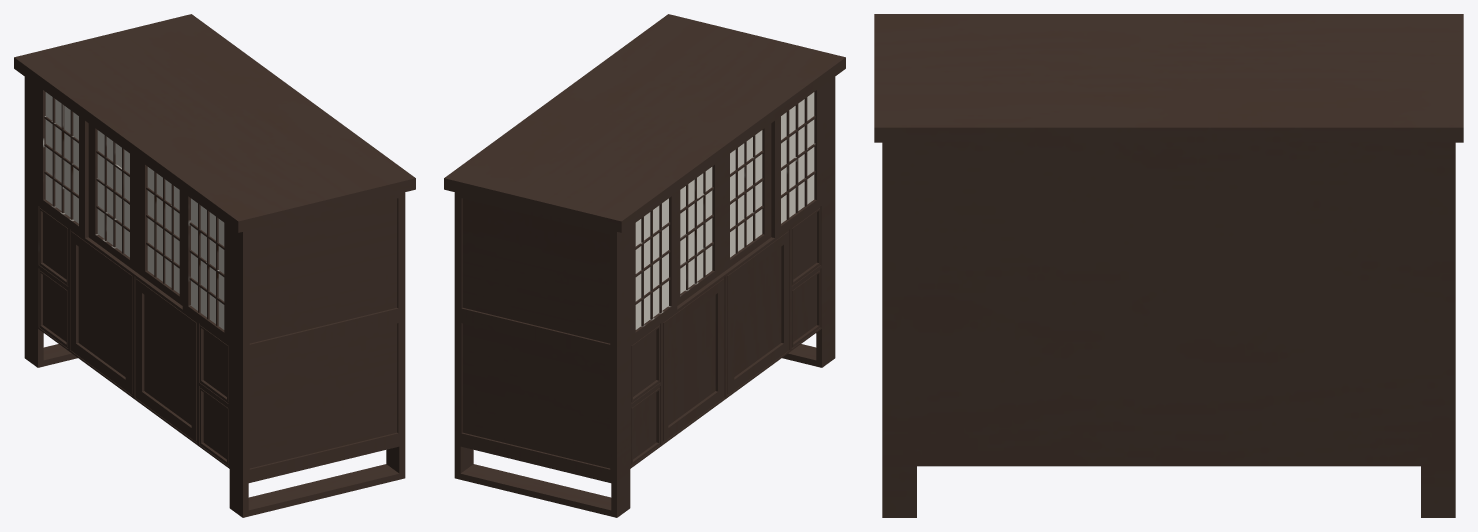
File: Ritual_cabinet.fbx
The picture shows the model from 3 angles, left to right: view 1: azimuth 30°, elevation 25°; view 2: azimuth 150°, elevation 25°; view 3: azimuth 270°, elevation 25°; orthographic projection. The views are drawn at different scales.
Visible parts, largest first — view 1: Ritual cabinet; view 2: Ritual cabinet; view 3: Ritual cabinet.
Part boxes in pixels (box(x1,y1,x2,y2)): Ritual cabinet: box(14, 14, 415, 517); Ritual cabinet: box(444, 14, 845, 517); Ritual cabinet: box(874, 14, 1463, 517).
Size of the model in its own units: 54.64 by 88.42 by 120.
